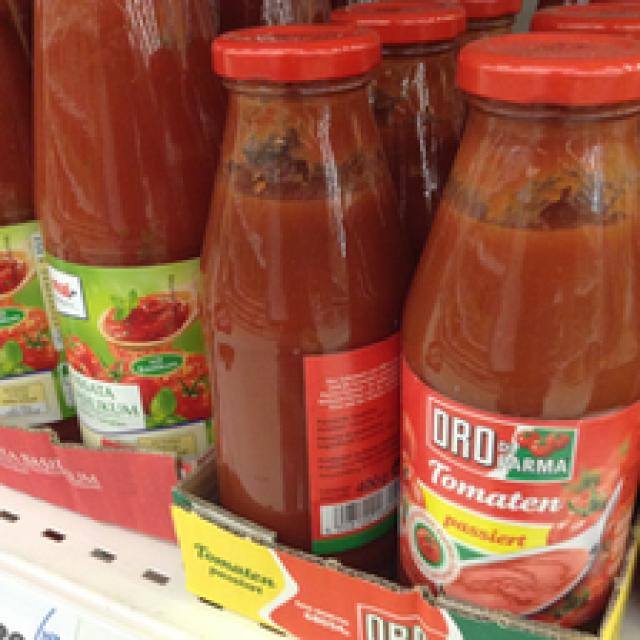groceries: (400, 23, 637, 620), (194, 20, 397, 571), (26, 0, 214, 457)
